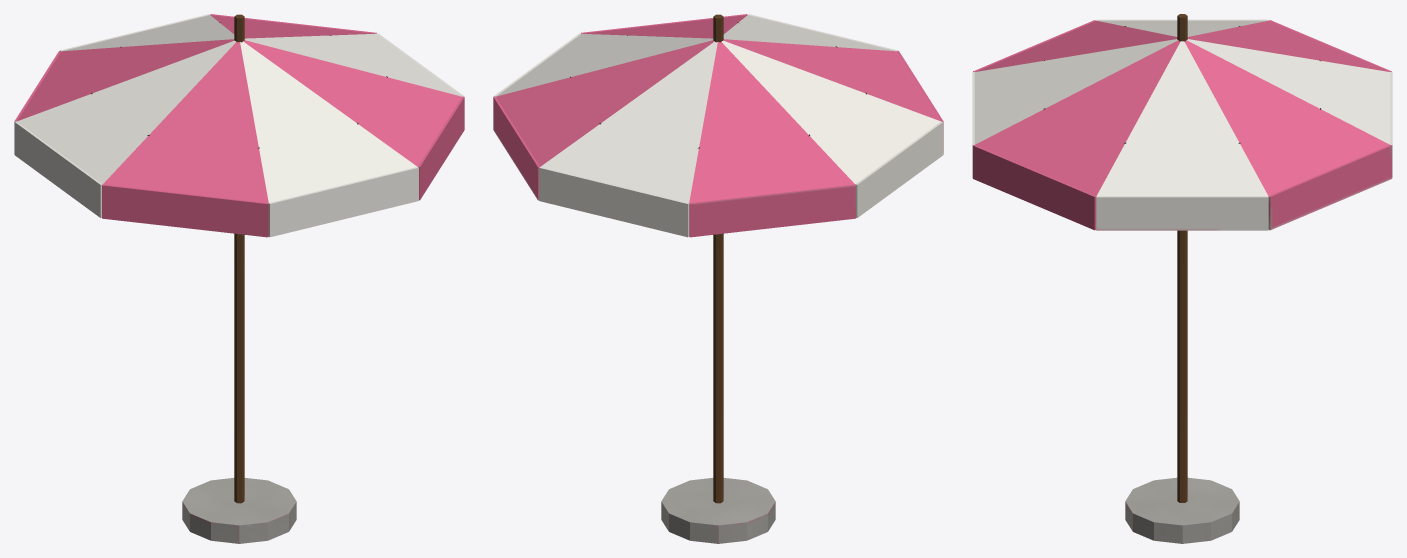
Rendered from slunecnik_9ac36a5a.glb.
The picture shows the model from 3 angles, left to right: view 1: azimuth 30°, elevation 25°; view 2: azimuth 150°, elevation 25°; view 3: azimuth 270°, elevation 25°; orthographic projection.
Visible parts, largest first — view 1: dum; view 2: dum; view 3: dum.
Part boxes in pixels (x1,y1,x2,y2): dum: [14, 14, 464, 543]; dum: [493, 14, 943, 543]; dum: [972, 14, 1392, 543].
Bounding box in the file's own units: 2.05 × 2.71 × 2.05.
Materials: 1 (1 with a texture image).
